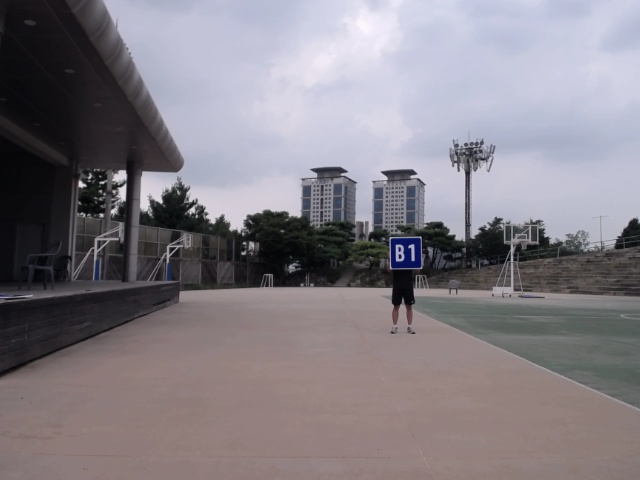delivery_b1: (389, 237, 422, 269)
